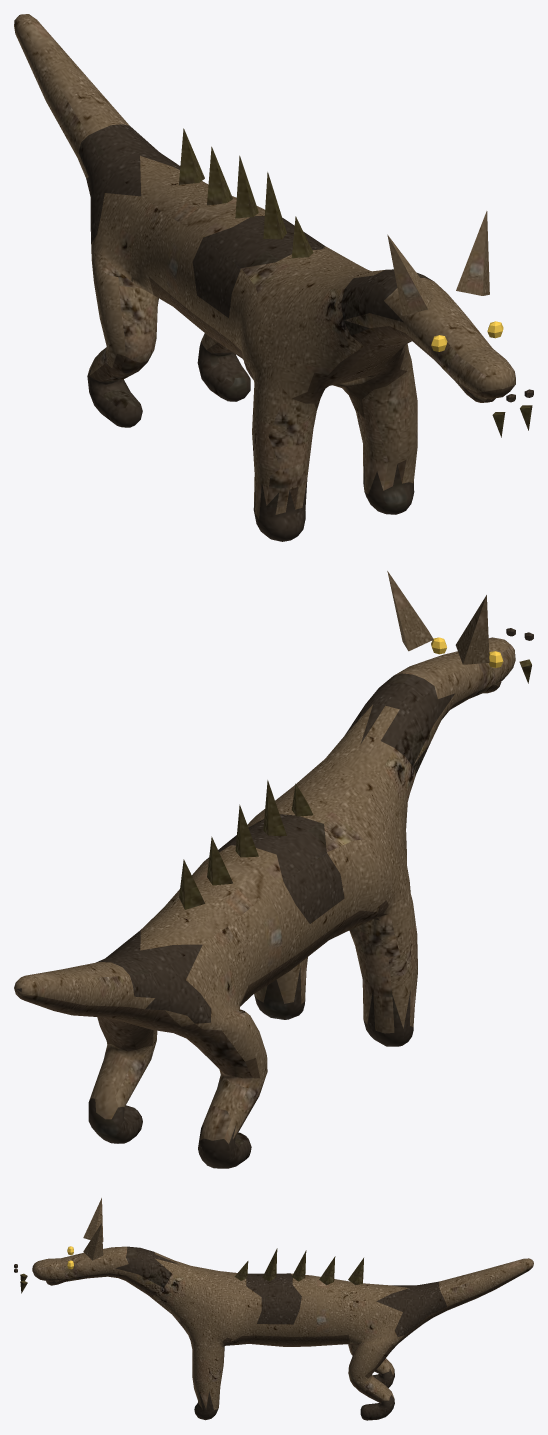
File: mon_sp_wolf.glb
3 renders of one model, top to bottom at view 1: azimuth 30°, elevation 25°; view 2: azimuth 150°, elevation 25°; view 3: azimuth 270°, elevation 25°, orthographic. The views are drawn at different scales.
Visible parts, largest first — view 1: mon_sp_wolf; view 2: mon_sp_wolf; view 3: mon_sp_wolf.
Part boxes in pixels (<box>): mon_sp_wolf: <box>14,14,533,541</box>; mon_sp_wolf: <box>14,571,533,1168</box>; mon_sp_wolf: <box>14,1198,533,1420</box>.
Size of the model in its own units: 0.3245 by 0.7447 by 1.79.
5 materials, 5 textured.
